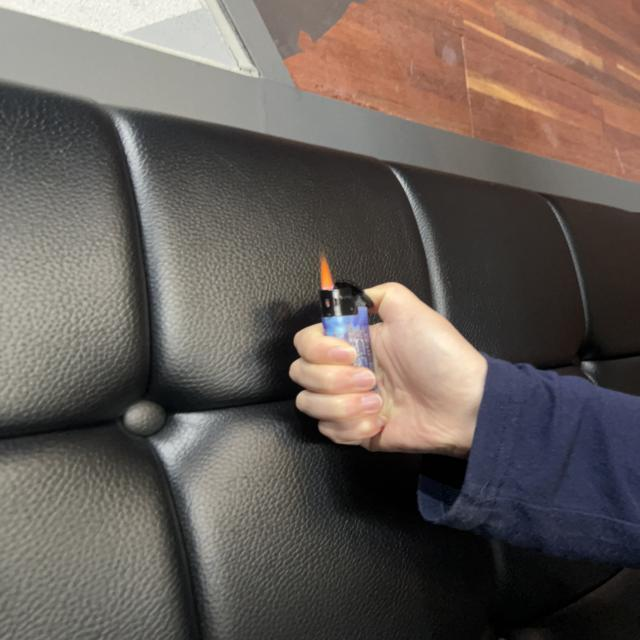fire: (318, 249, 337, 292)
